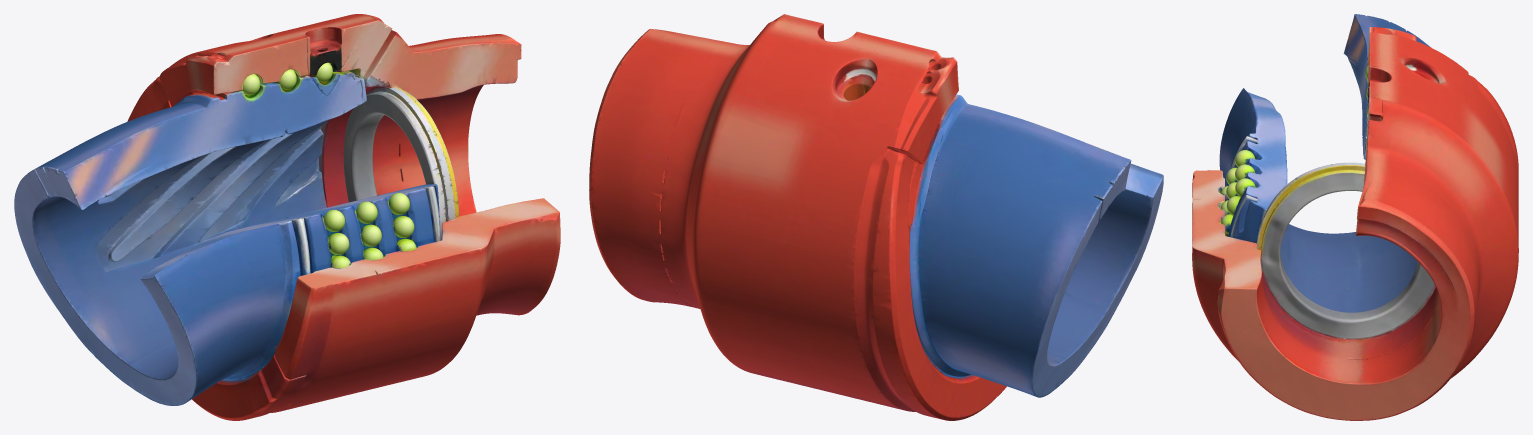
Rendered from juntaGiratoriaTSI.glb.
3 renders of one model, left to right at view 1: azimuth 30°, elevation 25°; view 2: azimuth 150°, elevation 25°; view 3: azimuth 270°, elevation 25°, orthographic. The views are drawn at different scales.
Parts seen in each view (by area): view 1: tripo_node_1289d579-2da7-4bed-b7c8-bafcb9e5c7c7; view 2: tripo_node_1289d579-2da7-4bed-b7c8-bafcb9e5c7c7; view 3: tripo_node_1289d579-2da7-4bed-b7c8-bafcb9e5c7c7.
Part boxes in pixels (x1,y1,x2,y2): tripo_node_1289d579-2da7-4bed-b7c8-bafcb9e5c7c7: (14,14,560,420); tripo_node_1289d579-2da7-4bed-b7c8-bafcb9e5c7c7: (589,14,1163,420); tripo_node_1289d579-2da7-4bed-b7c8-bafcb9e5c7c7: (1192,14,1518,420).
Size of the model in its own units: 0.9809 by 0.6828 by 0.6506.
Materials: 1 (1 with a texture image).
